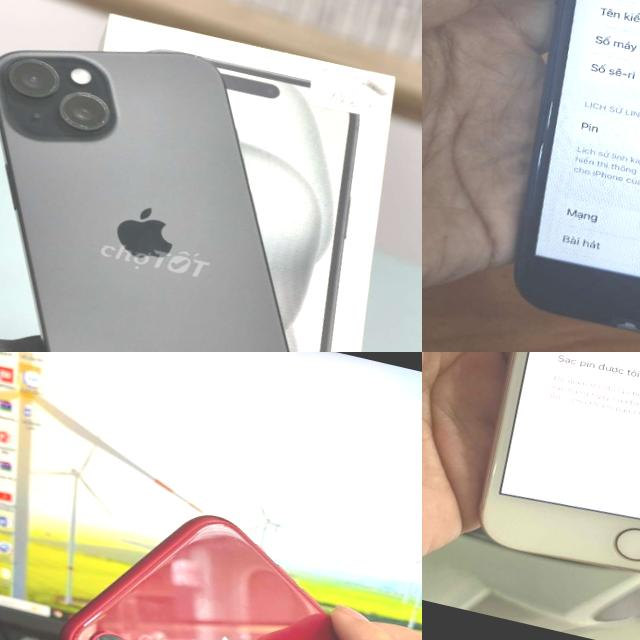gen_15: (0, 0, 387, 352)
gen_7_8: (470, 0, 640, 352), (480, 352, 640, 572)
gen_x_xs: (62, 515, 338, 640)
